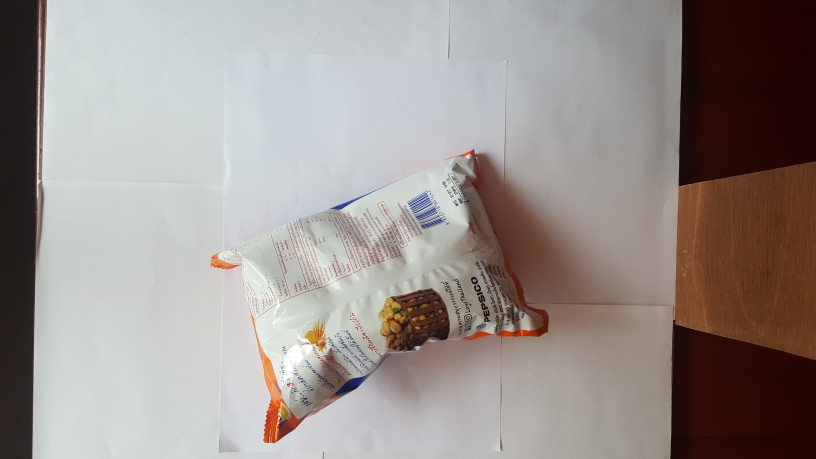lays-bbq: (205, 136, 564, 447)
